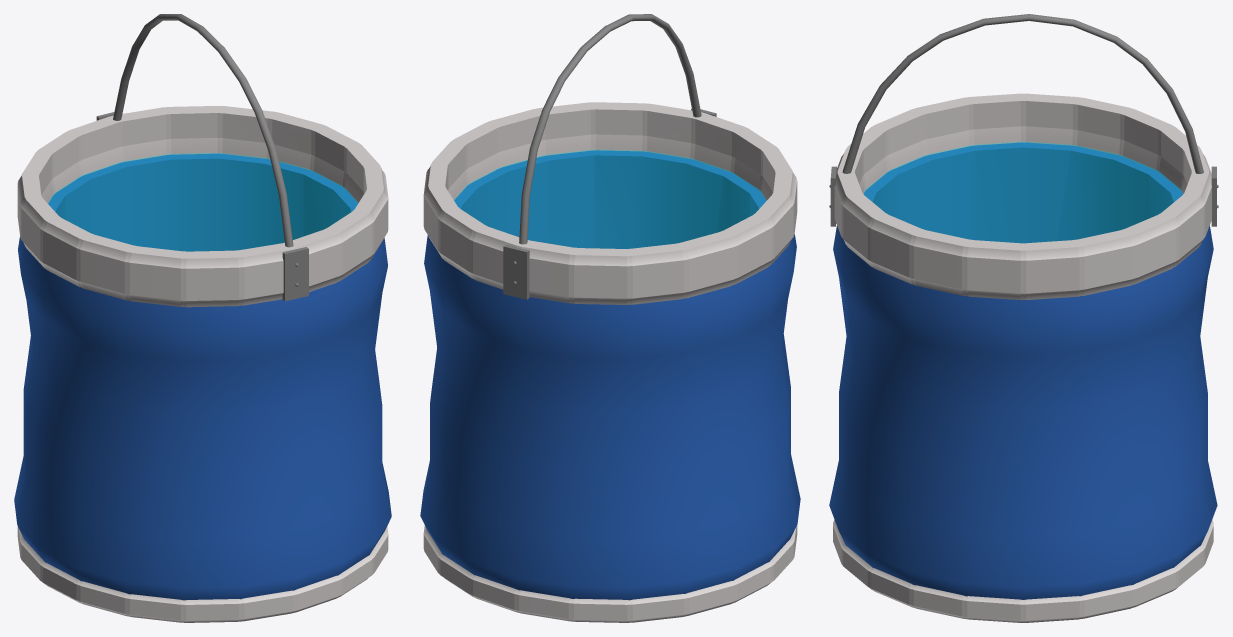
Rendered from 물고기 양동이.fbx.
3 renders of one model, left to right at view 1: azimuth 30°, elevation 25°; view 2: azimuth 150°, elevation 25°; view 3: azimuth 270°, elevation 25°, orthographic. The views are drawn at different scales.
Parts seen in each view (by area): view 1: pCylinder7, pCylinder4, pDisc1, pCylinder1, extrudedSurface1, pSphere7; view 2: pCylinder7, pCylinder4, pDisc1, pCylinder1, extrudedSurface1, pSphere6; view 3: pCylinder7, pCylinder4, pDisc1, pCylinder1, extrudedSurface1.
Part boxes in pixels (left/top/right/bottom): pCylinder7: left=14, top=153, right=391, bottom=600; pCylinder4: left=17, top=106, right=388, bottom=307; pDisc1: left=48, top=153, right=357, bottom=251; pCylinder1: left=17, top=526, right=388, bottom=622; extrudedSurface1: left=113, top=14, right=293, bottom=247; pSphere7: left=282, top=247, right=308, bottom=301; pCylinder7: left=420, top=150, right=800, bottom=600; pCylinder4: left=423, top=102, right=797, bottom=304; pDisc1: left=454, top=150, right=766, bottom=248; pCylinder1: left=423, top=525, right=797, bottom=622; extrudedSurface1: left=519, top=14, right=701, bottom=244; pSphere6: left=503, top=244, right=529, bottom=299; pCylinder7: left=829, top=142, right=1217, bottom=599; pCylinder4: left=834, top=93, right=1211, bottom=299; pDisc1: left=864, top=142, right=1182, bottom=242; pCylinder1: left=833, top=519, right=1213, bottom=622; extrudedSurface1: left=842, top=14, right=1203, bottom=173.
Size of the model in its own units: 10.14 by 15.28 by 10.18.
